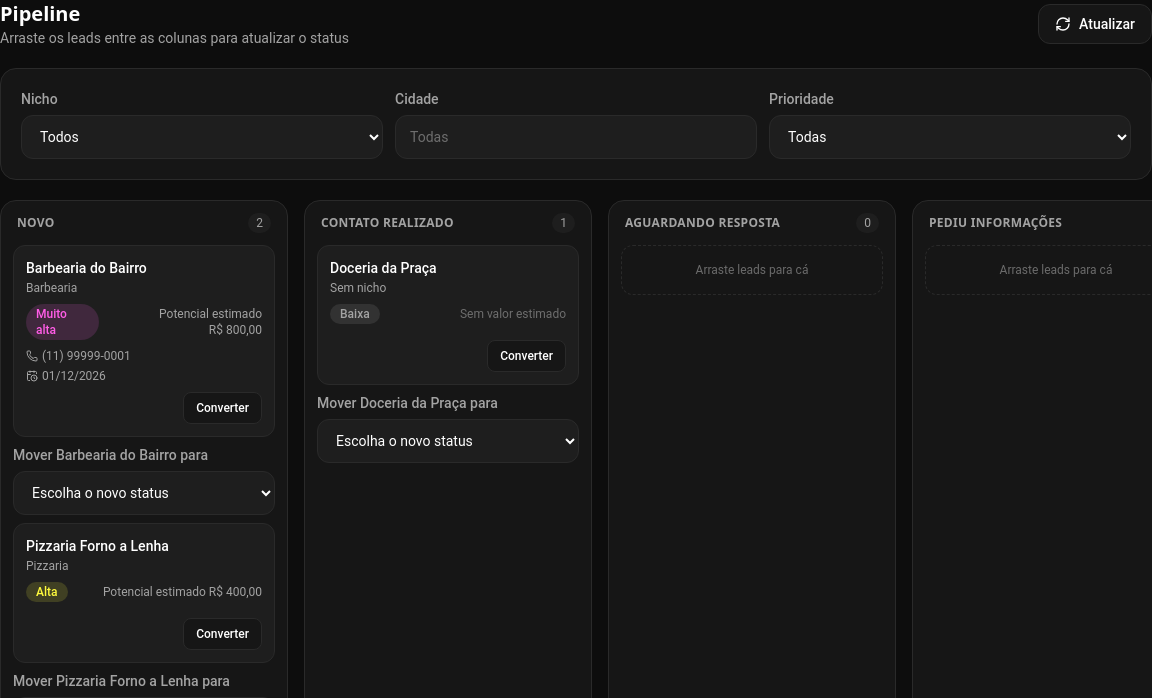
Test: PipelinePage — conversão › não reutiliza o snapshot de leads quando uma consulta com filtros diferentes falha
The image size is (1152, 698).
Expected: the element "Barbearia do Bairro" is shown, left=13, top=245, right=275, bottom=437
Expected: the link "Barbearia do Bairro" is shown, left=26, top=260, right=147, bottom=276
Select "Pizzaria" in the dropdown labelled "Nicho" at (202, 137), box left=21, top=115, right=383, bottom=159
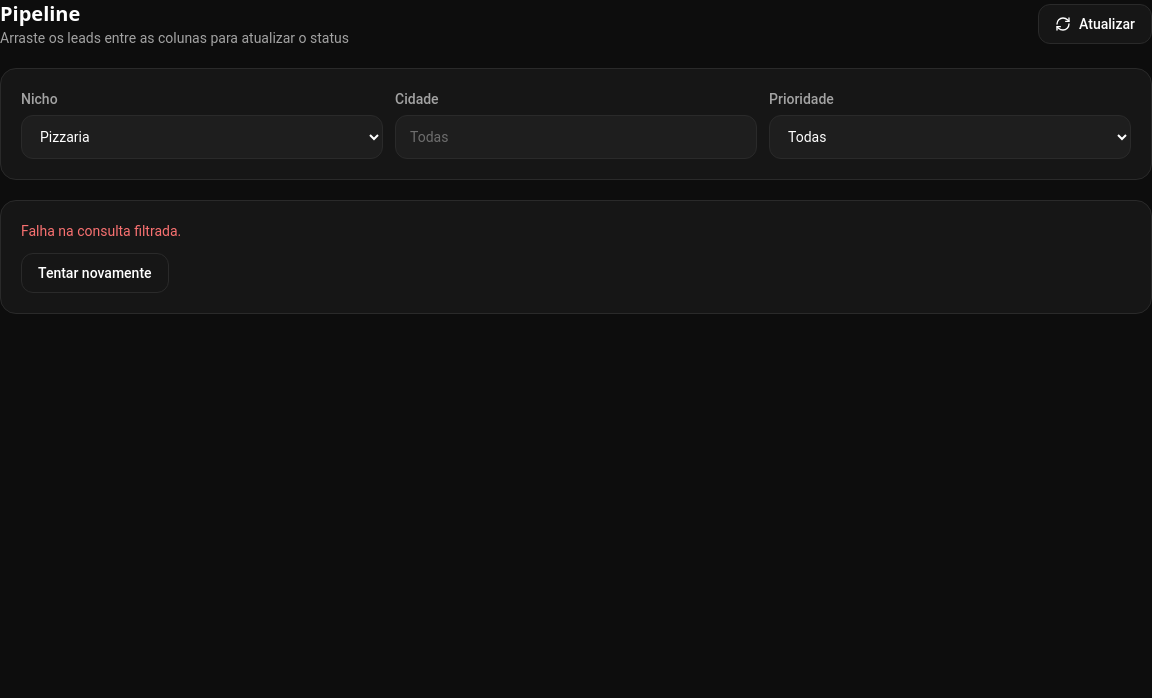
Expected: the message shows "Falha na consulta filtrada.", left=21, top=223, right=181, bottom=239
Expected: the heading "Novo" is gone
Expected: the link "Barbearia do Bairro" is gone
Click the button "Tentar novamente".
click(95, 273)  # box left=21, top=253, right=169, bottom=293
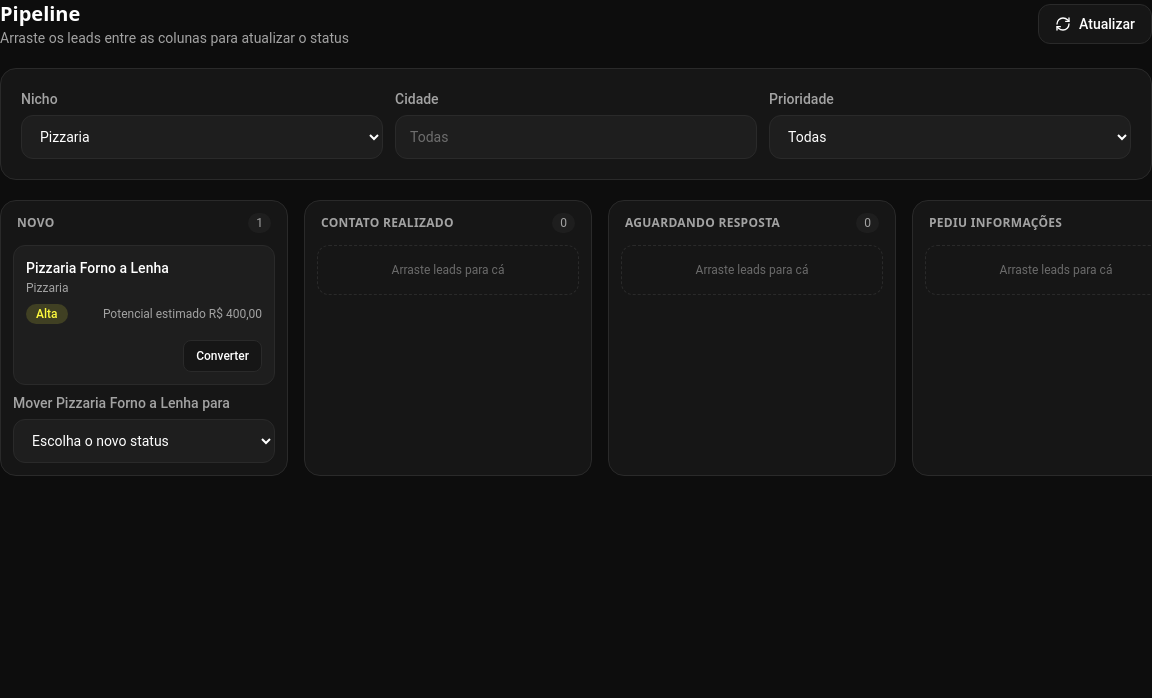
Expected: the link "Barbearia do Bairro" is not shown
Expected: the element "Novo" is shown, left=0, top=200, right=288, bottom=476
Expected: the number of links "Pizzaria Forno a Lenha" is 2
